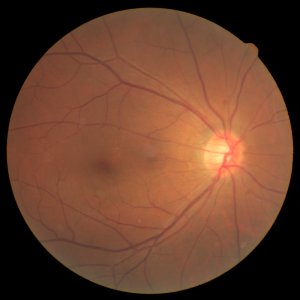healthy_eye: (66, 91, 266, 201)
